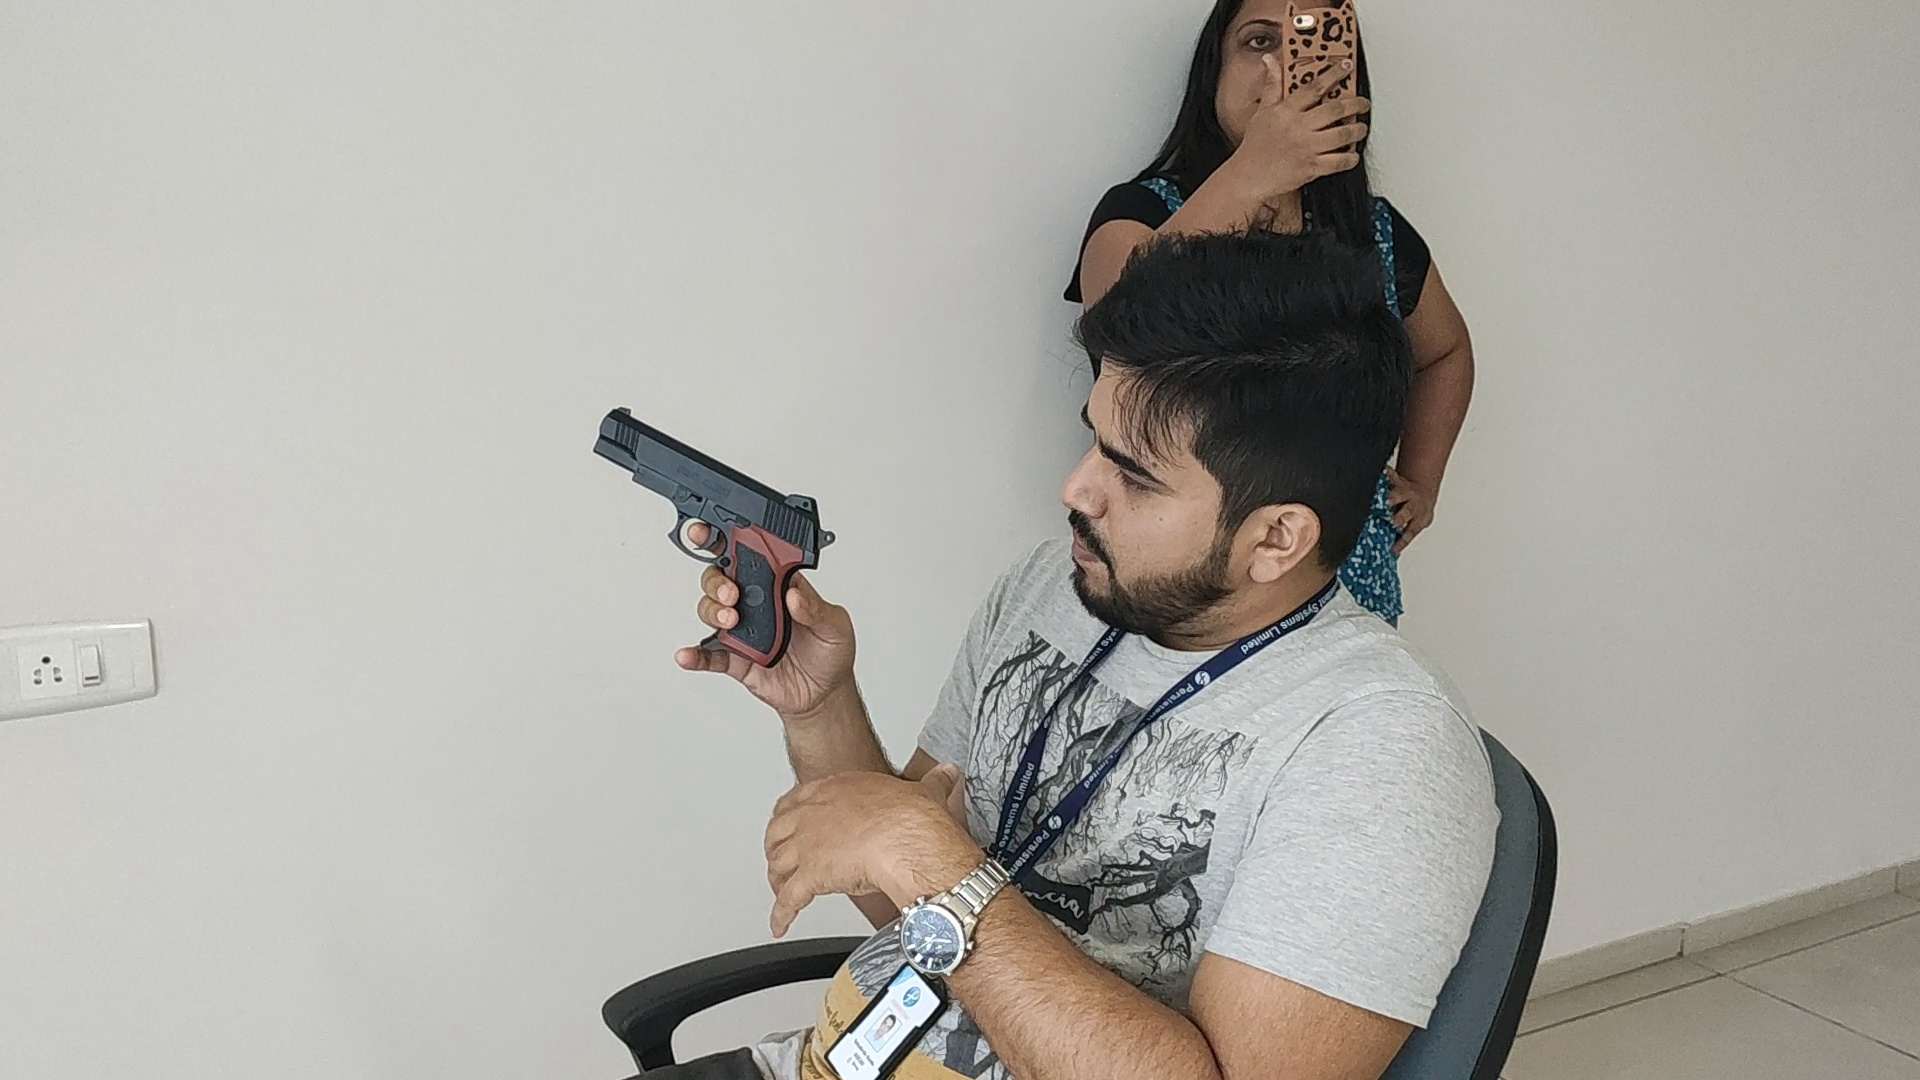gun: (592, 407, 836, 564)
